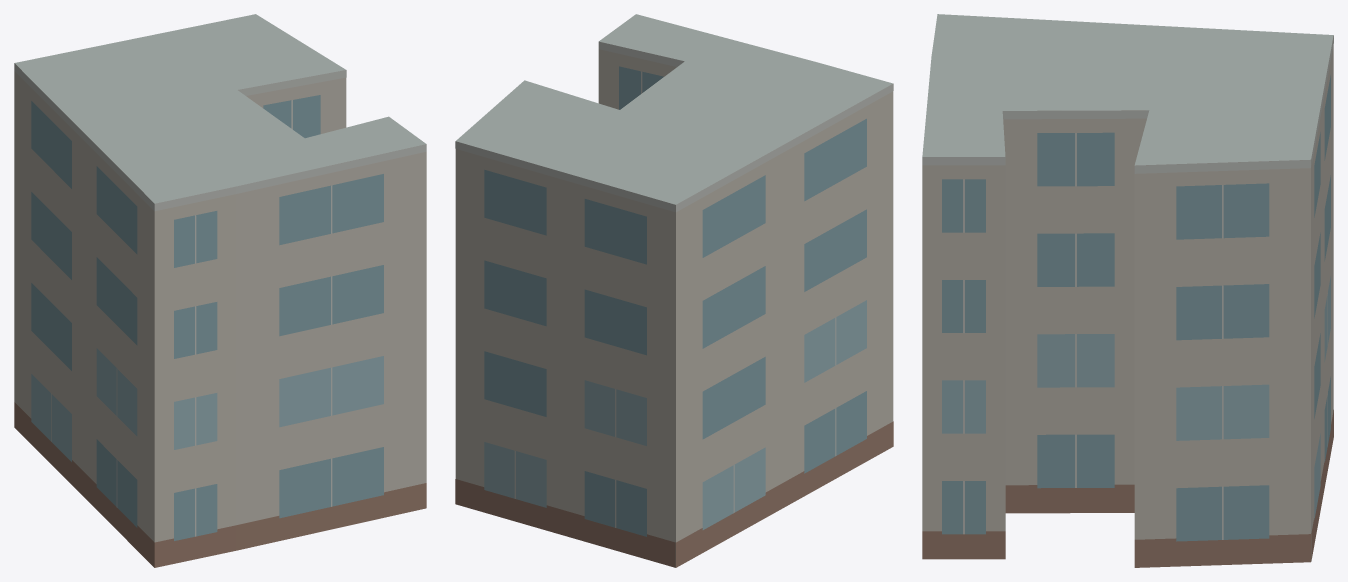
Rendered from survey-upis-32471748.glb.
3 renders of one model, left to right at view 1: azimuth 30°, elevation 25°; view 2: azimuth 150°, elevation 25°; view 3: azimuth 270°, elevation 25°, orthographic. The views are drawn at different scales.
Visible parts, largest first — view 1: survey-upis-32471748.tmp; view 2: survey-upis-32471748.tmp; view 3: survey-upis-32471748.tmp.
Part boxes in pixels (left/top/right/bottom): survey-upis-32471748.tmp: left=14, top=14, right=426, bottom=567; survey-upis-32471748.tmp: left=455, top=14, right=893, bottom=567; survey-upis-32471748.tmp: left=922, top=14, right=1333, bottom=567.
Bounding box in the file's own units: 9.46 × 11.7 × 10.85.
